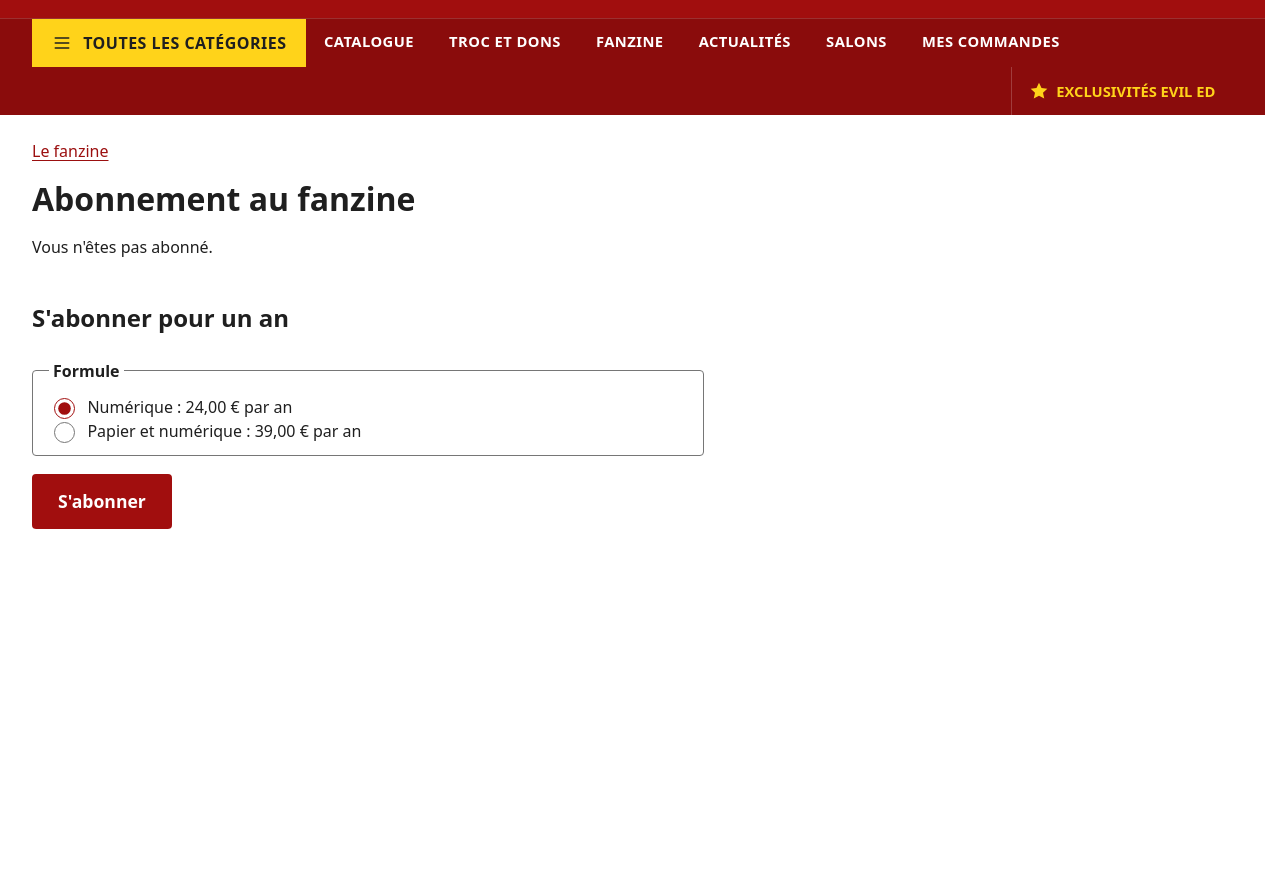
Test: Abonnement (US17) › souscrit à la formule papier avec une adresse de livraison
(page scrolled)
Expected: the text "Vous n'êtes pas abonné." is shown, [32,236,213,258]
Step 1. Click the radio button labelled "Papier et numérique : 39,00 € par an" → (64,432), box [54,422,75,443]
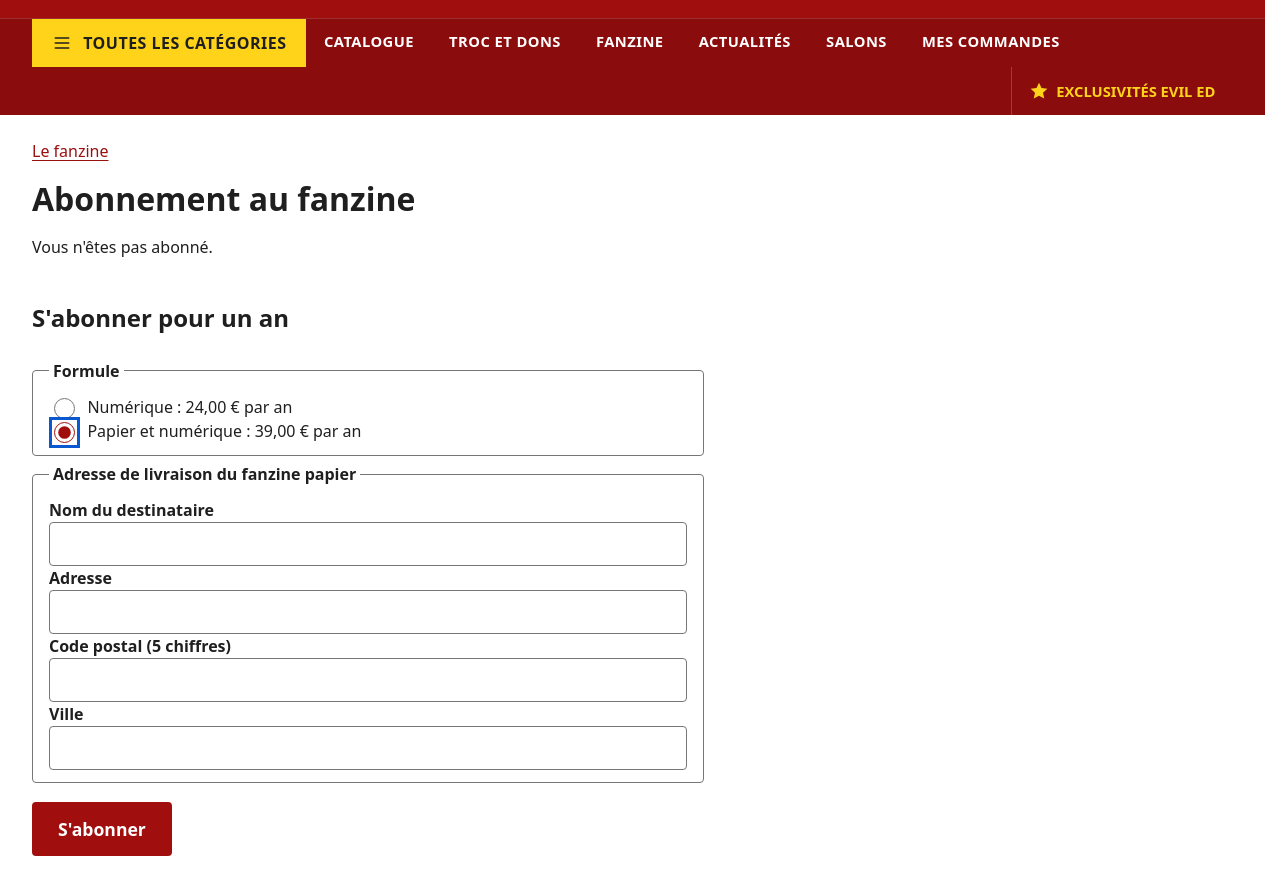
Step 2. Type "Alice" into the field labelled "Nom du destinataire" → (368,544), box [49,522,687,566]
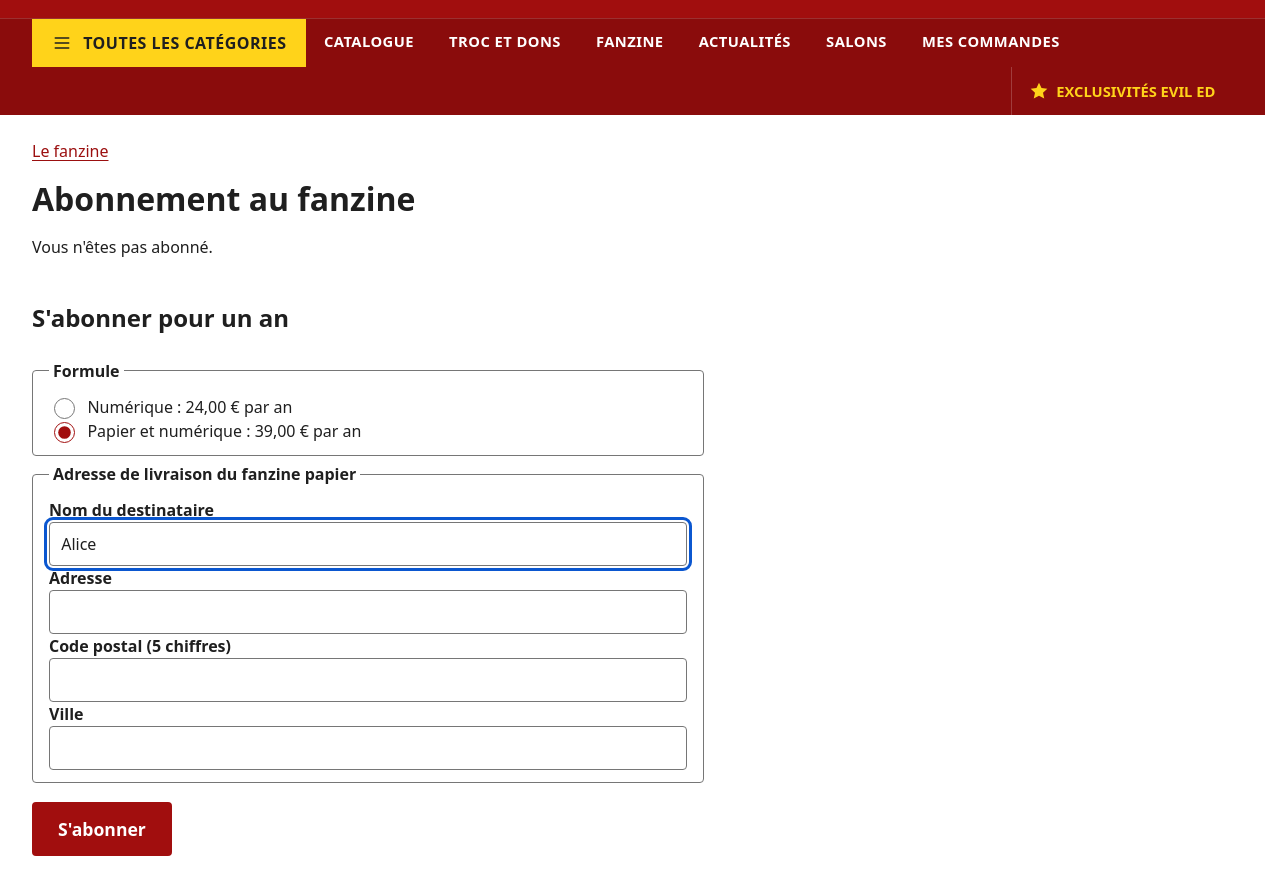
Step 3. Type "1 rue" into the field labelled "Adresse" → (368,612), box [49,590,687,634]
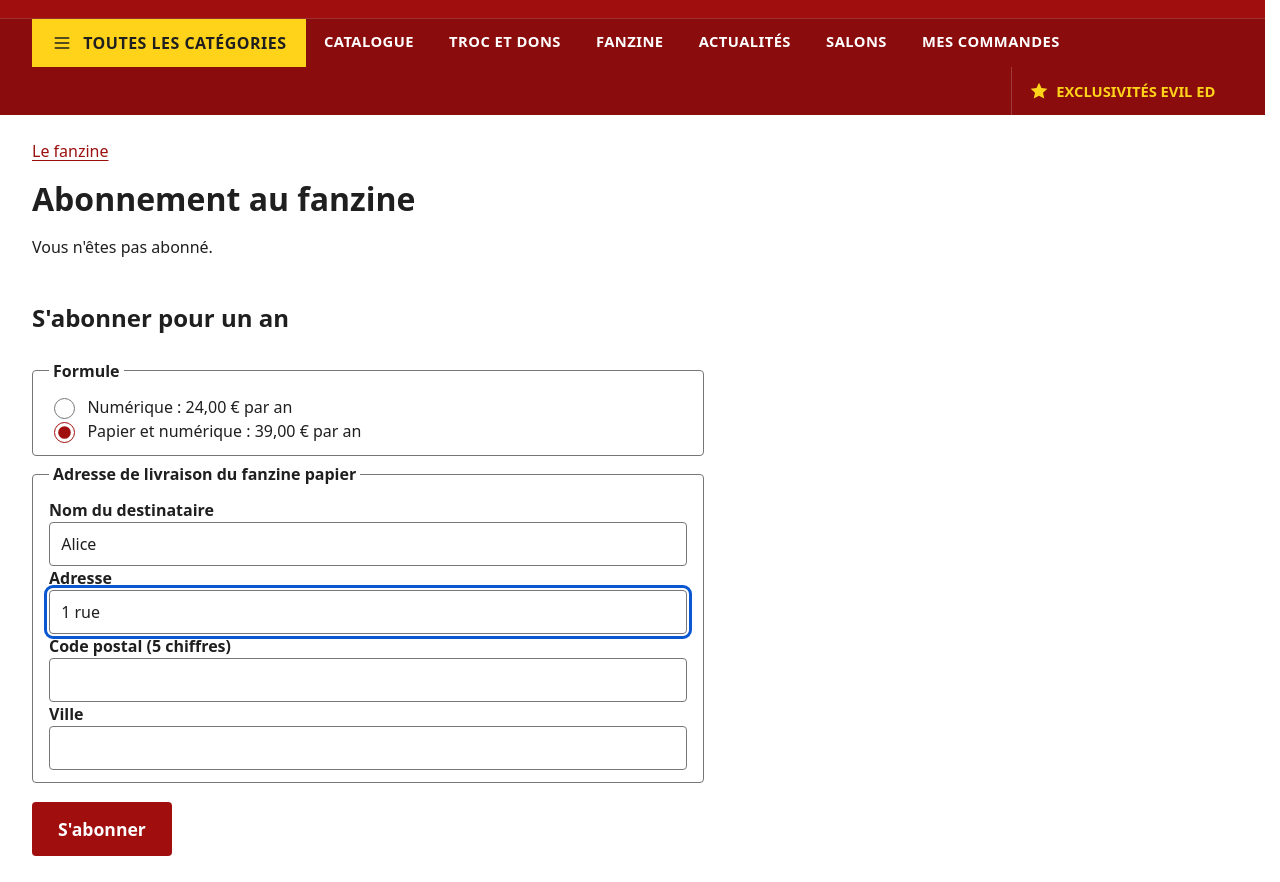
Step 4. Type "75011" into the field labelled "Code postal (5 chiffres)" → (368,680), box [49,658,687,702]
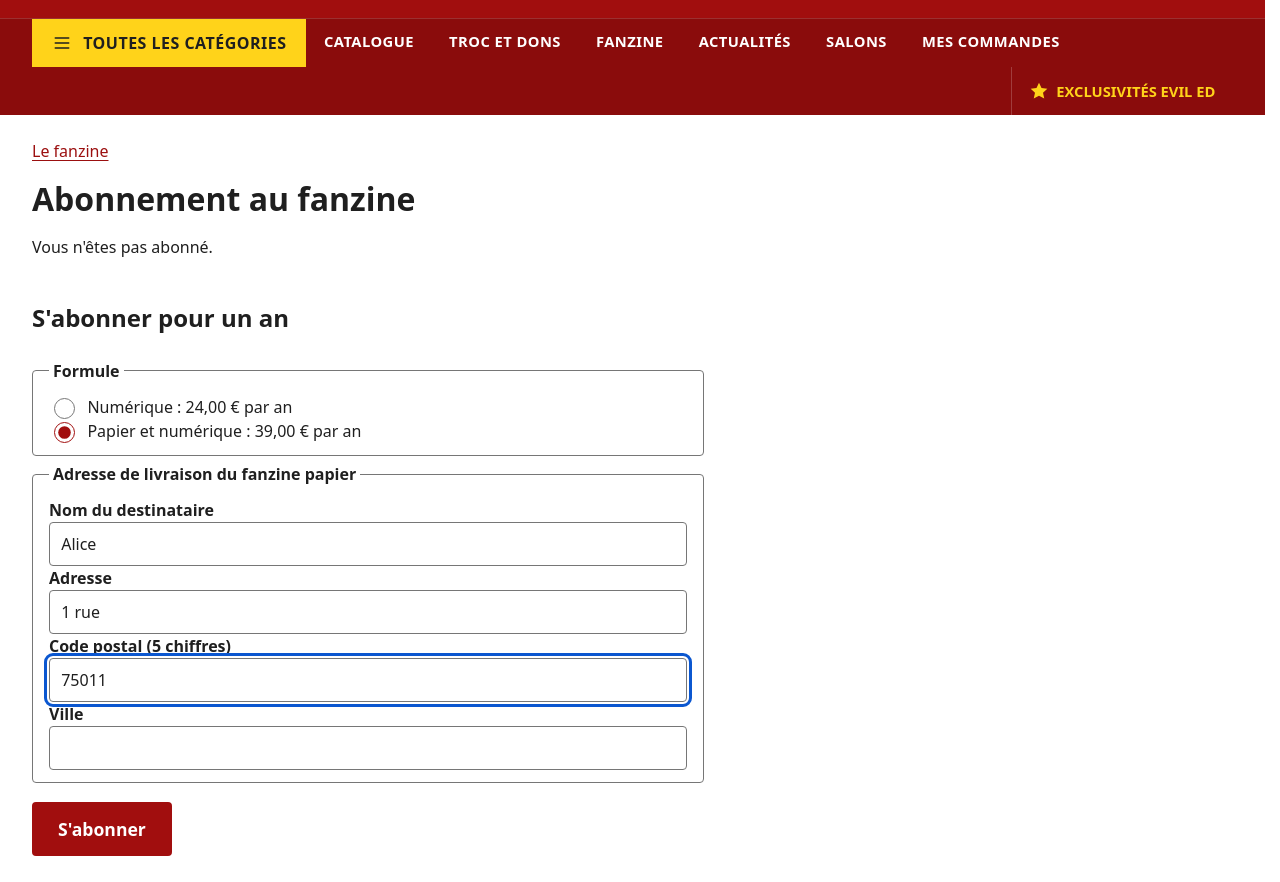
Step 5. Type "Paris" into the field labelled "Ville" → (368,748), box [49,726,687,770]
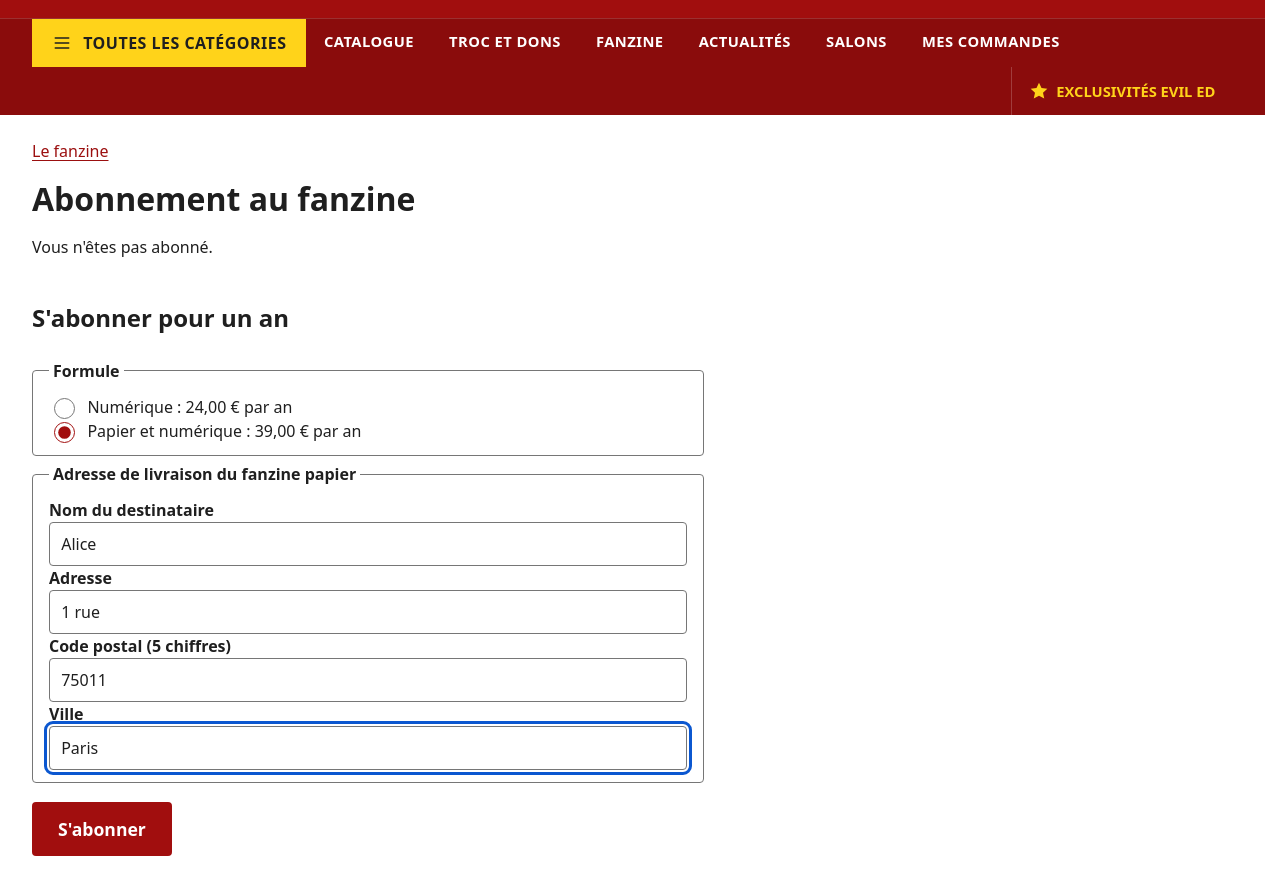
Step 6. Click the button "S'abonner" → (102,829), box [32,802,172,856]
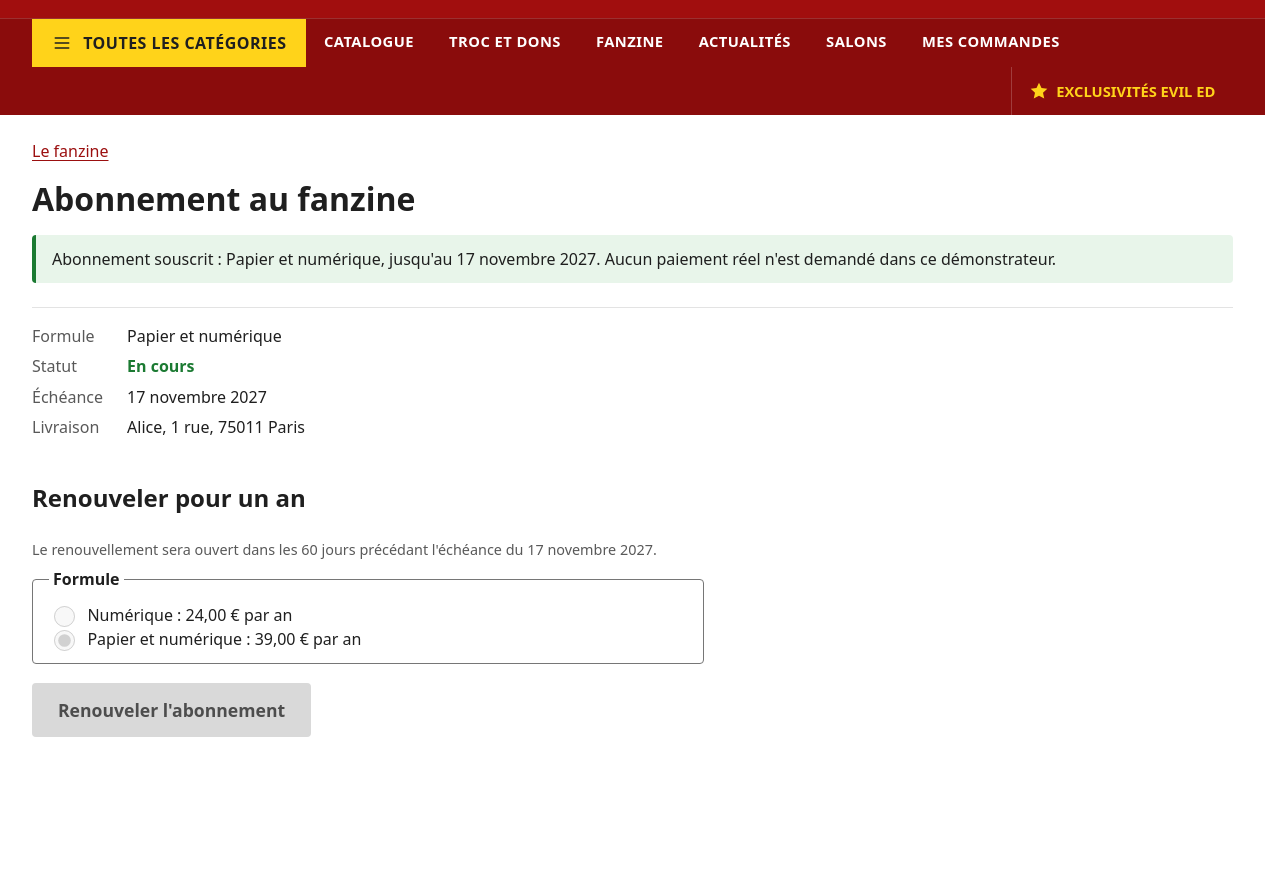
Expected: the text "Abonnement souscrit : Papier et numérique, jusqu'au 17 novembre 2027" is shown, [52,248,1056,270]
Expected: the text "En cours" is shown, [127,355,195,377]
